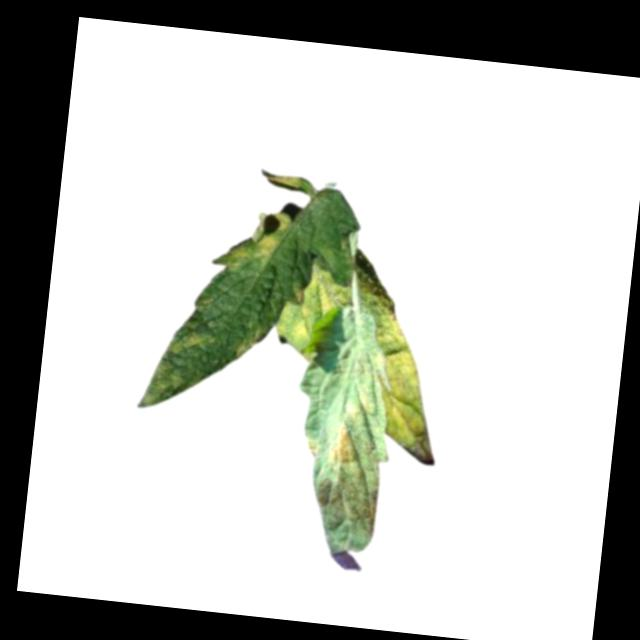Leaf_Mold: (369, 299, 454, 466), (279, 260, 355, 348), (221, 205, 293, 277), (328, 420, 356, 468), (232, 325, 264, 361)
